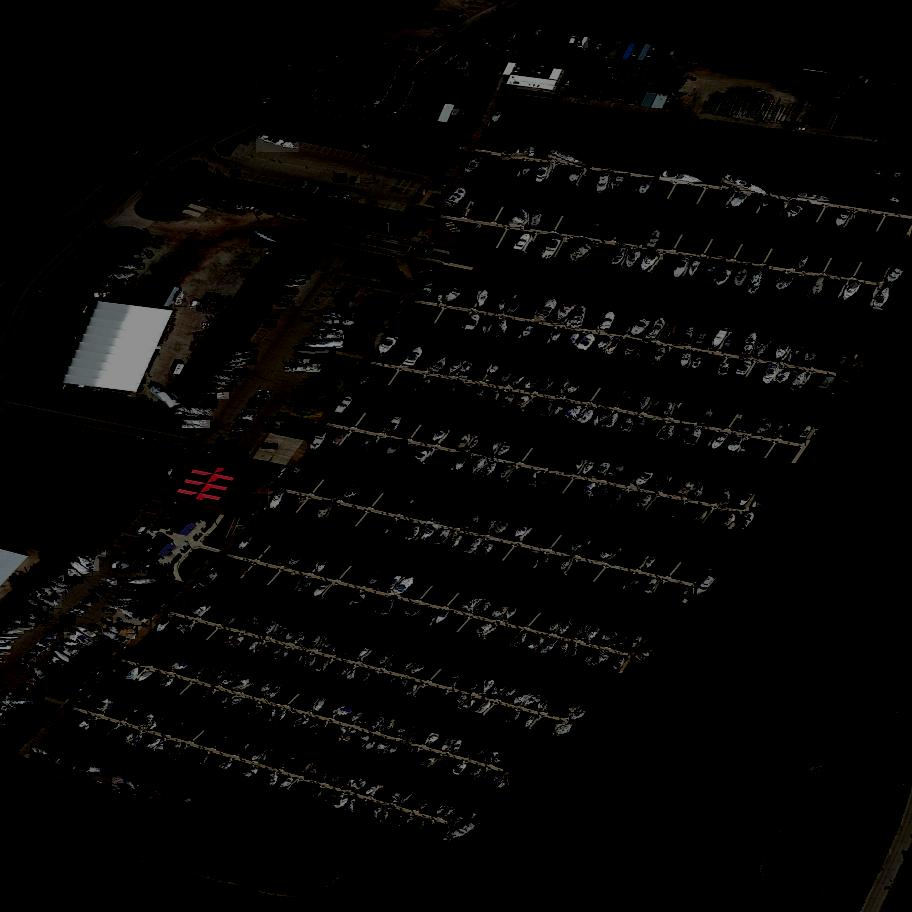ship: (836, 356, 872, 395), (722, 172, 772, 200), (147, 380, 183, 413), (548, 147, 592, 172), (459, 149, 491, 181), (695, 567, 724, 602), (565, 239, 598, 269), (673, 317, 701, 352), (448, 819, 485, 845), (376, 329, 406, 361), (256, 132, 299, 154), (441, 183, 472, 213), (643, 313, 671, 346), (249, 226, 287, 250), (31, 743, 67, 768), (534, 295, 563, 326), (627, 310, 655, 342), (628, 642, 662, 668), (510, 757, 534, 793), (540, 233, 566, 265), (391, 574, 420, 602), (635, 248, 663, 277), (570, 330, 598, 359), (733, 508, 760, 538), (332, 392, 359, 422), (799, 343, 829, 370), (838, 278, 865, 308), (30, 586, 62, 611), (747, 262, 768, 300), (631, 466, 659, 494), (442, 281, 471, 308), (740, 328, 763, 362), (715, 259, 739, 291), (399, 521, 426, 549), (699, 258, 727, 285), (308, 428, 333, 458), (706, 325, 731, 355), (661, 168, 705, 185), (785, 199, 812, 226), (655, 419, 681, 447), (592, 167, 614, 200), (552, 299, 577, 328), (669, 253, 693, 283), (643, 223, 667, 253), (595, 625, 627, 647), (814, 347, 841, 373), (476, 460, 504, 485), (873, 284, 897, 313), (16, 605, 49, 626), (314, 496, 337, 526), (117, 607, 151, 627), (197, 567, 223, 593), (509, 205, 535, 231), (708, 429, 734, 455), (461, 533, 486, 560), (605, 170, 630, 197), (569, 301, 590, 332), (383, 437, 408, 463), (549, 450, 576, 474), (30, 664, 54, 691), (733, 356, 757, 383), (522, 632, 550, 655), (153, 611, 176, 639), (461, 309, 484, 337), (636, 174, 659, 202), (732, 260, 752, 292), (726, 189, 751, 214), (460, 510, 484, 536), (673, 477, 699, 501), (324, 307, 363, 323), (416, 279, 439, 306), (404, 344, 426, 372), (698, 404, 720, 432), (600, 308, 622, 336), (102, 628, 134, 647), (564, 454, 589, 478), (885, 263, 909, 288), (630, 340, 655, 364), (785, 340, 809, 365), (635, 490, 658, 516), (539, 372, 562, 398), (833, 206, 856, 232), (692, 325, 715, 351), (401, 603, 428, 625), (771, 367, 798, 389), (647, 343, 669, 370), (478, 312, 499, 340), (609, 242, 630, 270), (798, 190, 837, 205), (64, 631, 98, 648), (310, 578, 334, 602), (575, 405, 599, 429), (295, 575, 318, 600), (833, 349, 856, 374), (659, 319, 682, 344), (461, 594, 487, 616), (752, 418, 778, 440), (583, 215, 605, 241), (525, 369, 546, 396), (313, 330, 348, 346), (810, 273, 830, 301), (23, 595, 54, 613), (285, 550, 309, 573), (605, 487, 628, 511), (776, 273, 799, 297), (567, 534, 589, 559), (117, 555, 142, 577), (687, 481, 709, 506), (113, 771, 139, 792), (685, 425, 706, 451), (622, 635, 649, 655), (493, 316, 513, 343), (443, 377, 463, 404), (761, 361, 781, 388), (686, 254, 706, 281), (76, 552, 99, 575), (591, 482, 614, 505), (496, 390, 519, 413), (509, 370, 532, 393), (428, 354, 451, 377), (817, 374, 840, 397), (433, 607, 455, 631), (511, 628, 533, 652), (499, 364, 521, 388), (618, 338, 640, 362), (433, 527, 454, 552), (406, 659, 431, 680), (473, 599, 498, 620), (68, 558, 93, 579), (6, 690, 31, 711), (139, 648, 164, 669), (378, 594, 397, 621), (361, 732, 384, 754), (355, 668, 378, 690), (662, 498, 685, 520), (749, 493, 772, 515), (341, 484, 365, 505), (172, 404, 214, 416), (513, 232, 534, 256), (443, 534, 468, 554), (65, 562, 85, 587), (578, 456, 598, 481), (385, 414, 405, 439), (773, 339, 792, 365), (869, 167, 910, 179), (62, 636, 89, 654), (534, 160, 552, 187), (352, 370, 374, 392), (646, 394, 668, 416), (417, 523, 440, 544), (490, 602, 513, 623), (607, 461, 628, 484), (592, 460, 613, 483), (350, 731, 374, 751), (487, 682, 511, 702), (305, 631, 325, 655), (186, 395, 218, 410), (775, 197, 795, 221), (237, 530, 256, 555), (493, 441, 515, 462), (171, 721, 193, 742), (790, 370, 812, 391), (591, 407, 613, 428), (511, 689, 534, 709), (390, 677, 413, 697), (77, 624, 100, 644), (269, 488, 286, 515), (596, 546, 620, 565), (586, 621, 605, 645), (469, 745, 494, 763), (719, 487, 737, 512), (796, 248, 813, 274), (479, 518, 500, 539), (165, 740, 186, 761), (736, 490, 757, 511), (354, 798, 374, 820), (367, 571, 387, 593), (433, 504, 455, 524), (692, 505, 712, 527), (626, 571, 646, 593), (564, 404, 586, 424), (109, 554, 132, 573), (540, 398, 559, 421), (371, 710, 389, 734), (455, 450, 471, 477), (336, 643, 360, 661), (556, 639, 574, 663), (2, 699, 29, 715), (606, 334, 623, 359), (476, 539, 497, 559), (537, 471, 557, 492), (147, 714, 167, 735), (124, 664, 144, 685), (505, 297, 525, 318), (564, 380, 585, 400), (469, 385, 490, 405), (542, 636, 561, 658), (223, 609, 242, 631), (501, 147, 539, 158), (285, 363, 323, 374), (104, 662, 122, 685), (644, 576, 662, 599), (326, 770, 350, 787), (692, 350, 709, 374), (398, 744, 418, 764), (473, 698, 493, 718), (300, 653, 320, 673), (546, 616, 566, 636), (277, 775, 297, 795), (530, 206, 546, 231), (675, 423, 695, 443), (356, 711, 377, 730), (492, 520, 513, 539), (47, 579, 66, 600), (50, 651, 71, 670), (158, 675, 179, 694), (210, 669, 231, 688), (612, 630, 631, 651), (553, 398, 572, 419), (499, 461, 517, 483), (53, 647, 75, 665), (374, 738, 397, 755), (555, 723, 578, 740), (457, 430, 474, 453), (527, 468, 544, 491), (522, 319, 539, 342), (627, 248, 643, 272), (570, 706, 590, 725), (283, 626, 302, 646), (398, 788, 416, 809), (480, 677, 498, 698), (259, 749, 280, 767), (273, 707, 291, 728), (268, 682, 286, 703), (722, 511, 740, 532), (228, 353, 257, 366), (756, 336, 771, 361), (414, 816, 431, 838), (475, 622, 497, 639), (71, 763, 105, 774), (140, 710, 157, 732), (567, 165, 584, 187), (488, 387, 505, 409), (636, 391, 653, 413), (305, 764, 324, 783), (199, 665, 218, 684), (514, 393, 533, 412), (416, 375, 435, 394), (535, 696, 555, 714), (390, 812, 410, 830), (324, 789, 342, 809), (574, 621, 592, 641), (181, 417, 211, 429), (188, 661, 208, 679), (580, 482, 600, 500), (558, 375, 573, 399), (305, 341, 345, 350), (446, 357, 464, 377), (619, 390, 637, 410), (738, 439, 758, 457), (558, 702, 579, 719), (504, 605, 521, 626), (613, 654, 630, 675), (634, 416, 651, 437), (607, 411, 624, 432), (559, 554, 575, 576), (231, 677, 253, 693), (58, 644, 83, 658), (322, 318, 357, 328), (560, 616, 575, 639), (330, 725, 349, 743), (368, 804, 387, 822), (309, 787, 327, 806), (399, 657, 417, 676), (771, 420, 789, 439), (508, 708, 525, 728), (332, 795, 352, 812), (451, 692, 471, 709), (538, 552, 555, 572), (428, 429, 448, 446), (798, 424, 815, 444), (392, 722, 413, 738), (420, 755, 441, 771), (472, 455, 486, 479), (584, 646, 600, 667), (263, 618, 278, 640), (478, 289, 493, 311), (37, 586, 62, 599), (426, 731, 444, 749), (501, 685, 519, 703), (117, 588, 144, 600), (467, 766, 486, 783), (230, 635, 249, 652), (97, 696, 114, 715), (251, 747, 268, 766), (76, 715, 95, 732), (144, 737, 163, 754), (331, 431, 348, 450), (429, 688, 445, 708), (468, 677, 484, 697), (377, 649, 393, 669), (328, 640, 348, 656), (643, 553, 659, 573), (359, 436, 375, 456), (549, 697, 564, 718), (56, 572, 77, 587), (261, 706, 282, 721), (731, 433, 745, 455), (617, 223, 631, 245), (353, 645, 371, 662), (223, 672, 241, 689), (676, 585, 694, 602), (458, 360, 475, 378), (387, 739, 403, 758), (345, 796, 361, 815), (320, 765, 336, 784), (512, 525, 531, 541), (402, 502, 421, 518), (406, 681, 422, 700), (76, 692, 95, 708), (199, 752, 215, 771), (277, 646, 293, 665), (594, 336, 613, 352), (384, 715, 399, 735), (305, 720, 325, 735), (314, 696, 329, 716), (379, 807, 394, 827), (317, 557, 332, 577), (176, 424, 206, 434), (879, 193, 904, 205), (521, 158, 536, 178), (662, 400, 677, 420), (487, 437, 500, 460), (334, 706, 355, 720), (9, 617, 38, 627), (342, 728, 359, 745), (454, 763, 471, 780), (442, 805, 459, 822), (301, 785, 318, 802), (246, 619, 263, 636), (291, 460, 308, 477), (292, 632, 310, 648), (137, 668, 155, 684), (495, 297, 511, 315), (761, 195, 777, 213), (220, 365, 246, 376), (680, 348, 693, 370), (441, 735, 456, 754), (349, 711, 368, 726), (523, 712, 538, 731), (493, 753, 512, 768), (387, 654, 402, 673), (334, 665, 353, 680), (239, 613, 254, 632), (120, 730, 139, 745), (227, 695, 246, 710), (388, 574, 402, 594), (380, 678, 400, 692), (2, 706, 22, 720), (243, 767, 263, 781), (46, 660, 66, 674), (593, 653, 614, 666), (353, 592, 369, 609), (216, 736, 233, 752), (523, 694, 541, 709), (351, 779, 369, 794), (378, 518, 396, 533), (315, 658, 330, 676), (211, 379, 238, 389), (228, 742, 246, 757), (453, 811, 472, 825), (492, 106, 506, 125), (719, 360, 733, 379), (122, 584, 148, 594), (493, 770, 509, 786), (241, 700, 257, 716), (415, 449, 431, 465), (302, 759, 317, 776), (341, 776, 356, 793), (118, 706, 135, 721), (216, 695, 233, 710), (50, 579, 73, 590), (485, 751, 503, 765), (444, 673, 465, 685), (109, 272, 137, 281), (198, 686, 212, 704), (551, 327, 565, 345), (266, 646, 285, 659), (568, 331, 581, 350), (295, 358, 330, 365), (319, 638, 335, 653), (115, 263, 145, 271), (183, 412, 213, 420), (284, 758, 304, 770), (220, 761, 236, 776), (107, 728, 123, 743), (469, 436, 484, 452), (295, 349, 335, 355), (400, 816, 417, 830), (272, 626, 289, 640), (222, 632, 236, 649), (405, 727, 423, 740), (420, 797, 433, 815), (387, 791, 405, 804), (654, 474, 667, 492), (622, 416, 635, 434), (200, 392, 229, 400), (3, 624, 32, 632), (256, 643, 271, 658), (463, 697, 477, 713), (435, 803, 449, 819), (365, 784, 381, 798), (348, 667, 362, 683), (114, 596, 142, 604), (129, 579, 157, 587), (288, 578, 302, 594), (193, 605, 209, 619), (213, 374, 241, 382), (176, 747, 190, 763), (292, 652, 306, 668), (258, 683, 274, 697), (434, 829, 454, 840), (172, 663, 192, 674), (452, 738, 464, 756), (108, 281, 135, 289), (294, 717, 312, 729), (174, 796, 195, 806), (132, 733, 146, 748), (248, 640, 262, 655), (487, 363, 501, 378), (106, 703, 122, 716), (268, 772, 280, 789), (29, 681, 51, 690), (181, 592, 195, 606), (185, 623, 198, 638), (252, 703, 265, 718), (441, 282, 454, 297), (108, 604, 132, 612), (225, 361, 249, 369), (157, 740, 169, 756), (260, 770, 271, 787), (317, 326, 354, 331), (176, 621, 189, 635), (235, 565, 249, 578), (232, 350, 258, 357), (403, 733, 418, 745), (107, 627, 137, 633), (570, 646, 581, 662), (292, 273, 311, 282), (176, 290, 186, 307), (209, 386, 232, 393), (724, 335, 734, 351), (436, 293, 448, 306), (90, 719, 101, 733), (482, 771, 493, 784), (14, 696, 41, 701), (112, 602, 136, 607), (142, 788, 165, 793), (19, 607, 47, 611), (650, 650, 660, 661), (0, 630, 24, 634), (429, 610, 438, 620), (50, 726, 59, 735), (287, 279, 306, 283), (657, 645, 664, 651), (284, 286, 301, 288)
small-vehicle: (578, 37, 592, 52), (333, 172, 348, 186), (294, 180, 308, 194), (59, 615, 76, 626), (88, 623, 103, 635), (417, 44, 430, 57), (230, 167, 242, 181), (35, 642, 51, 652), (139, 526, 152, 538), (150, 515, 163, 527), (264, 319, 278, 330), (394, 39, 408, 50), (277, 300, 295, 308), (94, 585, 110, 594), (101, 578, 117, 587), (130, 536, 143, 547), (601, 65, 616, 74), (249, 398, 264, 407), (567, 35, 578, 47), (325, 187, 336, 199), (35, 287, 47, 298), (123, 543, 135, 554), (34, 645, 47, 655), (53, 623, 66, 633), (75, 602, 91, 610), (235, 417, 251, 425), (22, 656, 36, 665), (318, 187, 329, 198), (287, 181, 298, 192), (845, 80, 855, 92), (243, 410, 258, 418), (265, 422, 280, 430), (143, 563, 153, 575), (273, 303, 286, 312), (252, 396, 266, 404), (458, 61, 468, 72), (13, 662, 26, 670), (236, 421, 249, 429), (477, 69, 487, 79), (97, 548, 107, 558), (102, 617, 113, 626), (118, 526, 129, 535), (129, 516, 138, 527), (256, 394, 270, 401), (48, 628, 62, 635), (528, 35, 536, 47), (539, 30, 547, 42), (74, 606, 86, 614), (17, 682, 29, 690), (89, 589, 101, 597), (262, 444, 278, 450), (705, 59, 720, 65), (574, 38, 583, 48), (311, 186, 320, 196), (269, 416, 284, 422), (85, 555, 95, 564), (112, 532, 121, 542), (18, 660, 29, 668), (266, 314, 280, 320), (301, 316, 313, 323), (101, 583, 113, 590), (58, 622, 71, 628), (276, 412, 289, 418), (134, 435, 147, 441), (223, 441, 238, 446), (342, 192, 350, 201), (40, 413, 52, 419), (106, 542, 114, 551), (29, 651, 43, 656), (239, 416, 253, 421), (48, 669, 59, 675), (141, 505, 149, 513), (594, 44, 603, 51), (104, 610, 116, 615), (547, 40, 555, 47), (307, 311, 321, 315), (191, 301, 198, 309), (228, 434, 242, 438), (167, 469, 174, 477), (80, 601, 91, 606), (351, 177, 360, 183), (259, 390, 272, 394), (25, 654, 35, 659), (24, 681, 34, 686), (64, 616, 75, 620), (555, 41, 561, 48), (333, 191, 339, 198), (284, 291, 298, 294), (306, 185, 312, 192), (417, 190, 425, 195), (86, 598, 99, 601), (264, 428, 277, 431), (247, 406, 260, 409), (40, 641, 52, 644), (595, 85, 600, 92), (566, 81, 573, 86), (92, 594, 99, 599), (46, 632, 57, 635), (116, 577, 127, 580), (233, 427, 244, 430), (681, 55, 687, 60), (467, 66, 472, 72), (558, 34, 564, 39), (70, 612, 83, 614), (44, 637, 56, 639)
